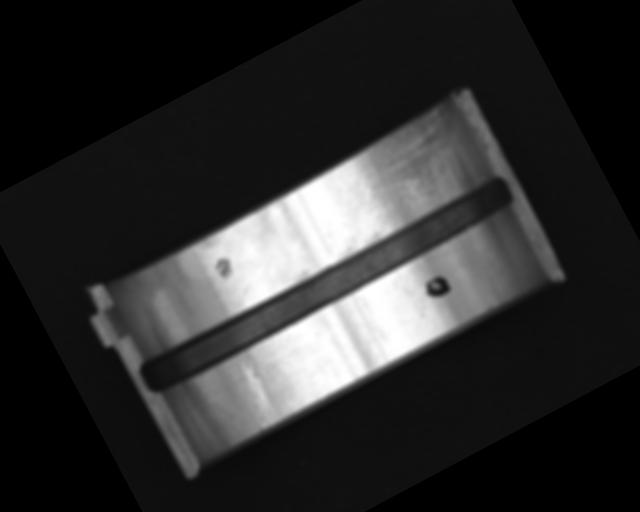blot: (419, 271, 454, 303)
bruise: (209, 252, 239, 284)
gap: (133, 169, 521, 400)
nick: (229, 356, 286, 433)
scratch: (324, 97, 491, 247)
